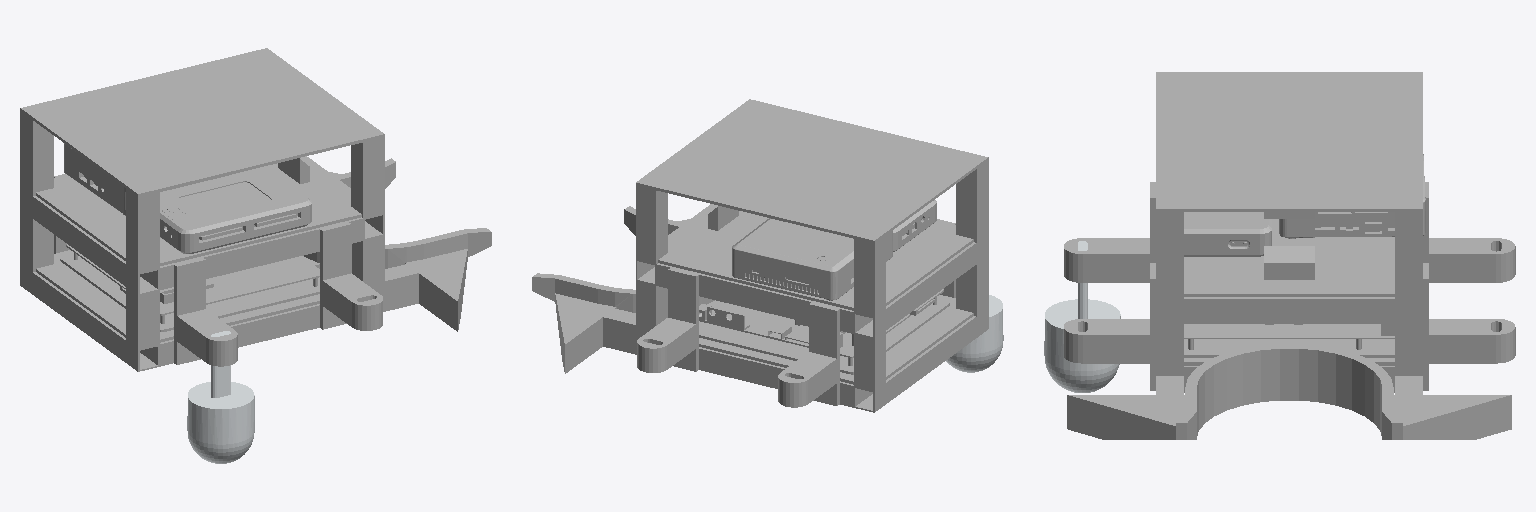
URDF robot description (lide):
<?xml version="1.0" encoding="utf-8"?>
<!-- This URDF was automatically created by SolidWorks to URDF Exporter! Originally created by [author] ([email redacted]) 
     Commit Version: 1.5.1-0-g916b5db  Build Version: 1.5.7152.31018
     For more information, please see http://wiki.ros.org/sw_urdf_exporter -->
<robot
  name="lide">
  <link
    name="base_link">
    <inertial>
      <origin
        xyz="-0.115823845803328 0.0844461093702982 0.0471980144973141"
        rpy="0 0 0" />
      <mass
        value="3.17049103377095" />
      <inertia
        ixx="0.00756848298117278"
        ixy="-5.47577884760056E-07"
        ixz="-1.15986515098171E-05"
        iyy="0.00567333147151148"
        iyz="-3.00885497222187E-07"
        izz="0.0125111608554953" />
    </inertial>
    <visual>
      <origin
        xyz="0 0 0"
        rpy="0 0 0" />
      <geometry>
        <mesh
          filename="package://lide/meshes/base_link.STL" />
      </geometry>
      <material
        name="">
        <color
          rgba="0.752941176470588 0.752941176470588 0.752941176470588 1" />
      </material>
    </visual>
    <collision>
      <origin
        xyz="0 0 0"
        rpy="0 0 0" />
      <geometry>
        <mesh
          filename="package://lide/meshes/base_link.STL" />
      </geometry>
    </collision>
  </link>
  <link
    name="LFS">
    <inertial>
      <origin
        xyz="0.0455604268709419 0.00830943309140329 0.00297622851896683"
        rpy="0 0 0" />
      <mass
        value="0.0727928435161987" />
      <inertia
        ixx="2.20927876796313E-05"
        ixy="-1.64845302056344E-08"
        ixz="-1.56454773175211E-07"
        iyy="1.62632133784213E-05"
        iyz="2.96411876511627E-09"
        izz="1.80843397531752E-05" />
    </inertial>
    <visual>
      <origin
        xyz="0 0 0"
        rpy="0 0 0" />
      <geometry>
        <mesh
          filename="package://lide/meshes/LFS.STL" />
      </geometry>
      <material
        name="">
        <color
          rgba="0.752941176470588 0.752941176470588 0.752941176470588 1" />
      </material>
    </visual>
    <collision>
      <origin
        xyz="0 0 0"
        rpy="0 0 0" />
      <geometry>
        <mesh
          filename="package://lide/meshes/LFS.STL" />
      </geometry>
    </collision>
  </link>
  <joint
    name="LFS"
    type="fixed">
    <origin
      xyz="-0.0540436140506678 0.200153640036847 -0.0365027479853971"
      rpy="1.5707963267949 0 1.5707963267949" />
    <parent
      link="base_link" />
    <child
      link="LFS" />
    <axis
      xyz="0 0 0" />
  </joint>
  <link
    name="LFW">
    <inertial>
      <origin
        xyz="0.015 0 2.60208521396521E-18"
        rpy="0 0 0" />
      <mass
        value="0.767080911081153" />
      <inertia
        ixx="0.00116426102407189"
        ixy="-1.25105048588129E-22"
        ixz="-1.83311841364852E-20"
        iyy="0.000639661580367031"
        iyz="-3.3881317890172E-21"
        izz="0.000639661580367032" />
    </inertial>
    <visual>
      <origin
        xyz="0 0 0"
        rpy="0 0 0" />
      <geometry>
        <mesh
          filename="package://lide/meshes/LFW.STL" />
      </geometry>
      <material
        name="">
        <color
          rgba="0.898039215686275 0.917647058823529 0.929411764705882 1" />
      </material>
    </visual>
    <collision>
      <origin
        xyz="0 0 0"
        rpy="0 1.5708 0" />
      <geometry>
        <cylinder length="0.03" radius="0.055"/>
      </geometry>
    </collision>
  </link>
  <joint
    name="LFW"
    type="continuous">
    <origin
      xyz="0.063346 -0.006798 0.015044"
      rpy="-1.6264 0 0" />
    <parent
      link="LFS" />
    <child
      link="LFW" />
    <axis
      xyz="1 0 0" />
    <limit
      effort="3.1"
      velocity="7" />
  </joint>
  <link
    name="RFS">
    <inertial>
      <origin
        xyz="-0.0191828308457407 -0.00900932874707057 0.0520056318885905"
        rpy="0 0 0" />
      <mass
        value="0.0727928435161986" />
      <inertia
        ixx="2.20927876796313E-05"
        ixy="-1.6484530205632E-08"
        ixz="1.56454773175213E-07"
        iyy="1.62632133784213E-05"
        iyz="-2.96411876510631E-09"
        izz="1.80843397531752E-05" />
    </inertial>
    <visual>
      <origin
        xyz="0 0 0"
        rpy="0 0 0" />
      <geometry>
        <mesh
          filename="package://lide/meshes/RFS.STL" />
      </geometry>
      <material
        name="">
        <color
          rgba="0.752941176470588 0.752941176470588 0.752941176470588 1" />
      </material>
    </visual>
    <collision>
      <origin
        xyz="0 0 0"
        rpy="0 0 0" />
      <geometry>
        <mesh
          filename="package://lide/meshes/RFS.STL" />
      </geometry>
    </collision>
  </link>
  <joint
    name="RFS"
    type="fixed">
    <origin
      xyz="-0.10307 -0.060531 -0.019216"
      rpy="1.5708 0 1.5708" />
    <parent
      link="base_link" />
    <child
      link="RFS" />
    <axis
      xyz="0 0 0" />
  </joint>
  <link
    name="RFW">
    <inertial>
      <origin
        xyz="-0.015 1.0842021724855E-19 0"
        rpy="0 0 0" />
      <mass
        value="0.767080911081152" />
      <inertia
        ixx="0.00116426102407189"
        ixy="-5.99355756097365E-37"
        ixz="4.60638074444741E-39"
        iyy="0.000639661580367031"
        iyz="-2.21718708608611E-36"
        izz="0.000639661580367031" />
    </inertial>
    <visual>
      <origin
        xyz="0 0 0"
        rpy="0 0 0" />
      <geometry>
        <mesh
          filename="package://lide/meshes/RFW.STL" />
      </geometry>
      <material
        name="">
        <color
          rgba="0.898039215686275 0.917647058823529 0.929411764705882 1" />
      </material>
    </visual>
     <collision>
      <origin
        xyz="0 0 0"
        rpy="0 1.5708 0" />
      <geometry>
        <cylinder length="0.03" radius="0.055"/>
      </geometry>
    </collision>
  </link>
  <joint
    name="RFW"
    type="continuous">
    <origin
      xyz="-0.036969 -0.024084 0.064073"
      rpy="0 0 0" />
    <parent
      link="RFS" />
    <child
      link="RFW" />
    <axis
      xyz="1 0 0" />
    <limit
      effort="3.1"
      velocity="7" />
  </joint>
  <link
    name="LBS">
    <inertial>
      <origin
        xyz="0 -0.045029 0"
        rpy="0 0 0" />
      <mass
        value="0.44204" />
      <inertia
        ixx="0.00028466"
        ixy="-1.2482E-22"
        ixz="-6.2053E-22"
        iyy="0.00017531"
        iyz="1.5658E-21"
        izz="0.0002841" />
    </inertial>
    <visual>
      <origin
        xyz="0 0 0"
        rpy="0 0 0" />
      <geometry>
        <mesh
          filename="package://lide/meshes/LBS.STL" />
      </geometry>
      <material
        name="">
        <color
          rgba="0.89804 0.91765 0.92941 1" />
      </material>
    </visual>
    <collision>
      <origin
        xyz="0 0 0"
        rpy="0 0 0" />
      <geometry>
        <mesh
          filename="package://lide/meshes/LBS.STL" />
      </geometry>
    </collision>
  </link>
  <joint
    name="LBS"
    type="fixed">
    <origin
      xyz="-0.202 0.24575 -0.013226"
      rpy="1.5708 0 1.5708" />
    <parent
      link="base_link" />
    <child
      link="LBS" />
    <axis
      xyz="0 0 0" />
  </joint>
  <link
    name="RBS">
    <inertial>
      <origin
        xyz="6.93889390390723E-18 -0.0450291457089084 0"
        rpy="0 0 0" />
      <mass
        value="0.442042052280736" />
      <inertia
        ixx="0.00028466325059699"
        ixy="-1.24713258277564E-21"
        ixz="-4.8787092274987E-23"
        iyy="0.000175308591947339"
        iyz="1.5657649315804E-21"
        izz="0.000284100534303298" />
    </inertial>
    <visual>
      <origin
        xyz="0 0 0"
        rpy="0 0 0" />
      <geometry>
        <mesh
          filename="package://lide/meshes/RBS.STL" />
      </geometry>
      <material
        name="">
        <color
          rgba="0.898039215686275 0.917647058823529 0.929411764705882 1" />
      </material>
    </visual>
    <collision>
      <origin
        xyz="0 0 0"
        rpy="0 0 0" />
      <geometry>
        <mesh
          filename="package://lide/meshes/RBS.STL" />
      </geometry>
    </collision>
  </link>
  <joint
    name="RBS"
    type="fixed">
    <origin
      xyz="-0.202 -0.07975 -0.013226"
      rpy="1.5708 0 1.5708" />
    <parent
      link="base_link" />
    <child
      link="RBS" />
    <axis
      xyz="0 0 0" />
  </joint>
  <link
    name="fcam">
    <inertial>
      <origin
        xyz="-0.011554 -2.6443E-06 0.0012903"
        rpy="0 0 0" />
      <mass
        value="0.043612" />
      <inertia
        ixx="2.3571E-05"
        ixy="-1.0184E-09"
        ixz="2.1759E-08"
        iyy="4.2948E-06"
        iyz="-8.8502E-10"
        izz="2.2106E-05" />
    </inertial>
    <visual>
      <origin
        xyz="0 0 0"
        rpy="0 0 0" />
      <geometry>
        <mesh
          filename="package://lide/meshes/fcam.STL" />
      </geometry>
      <material
        name="">
        <color
          rgba="0.79216 0.81961 0.93333 1" />
      </material>
    </visual>
    <collision>
      <origin
        xyz="0 0 0"
        rpy="0 0 0" />
      <geometry>
        <mesh
          filename="package://lide/meshes/fcam.STL" />
      </geometry>
    </collision>
  </link>
  <joint
    name="fcam"
    type="fixed">
    <origin
      xyz="-0.0038823 0.083 0.12982"
      rpy="0 0.2618 0" />
    <parent
      link="base_link" />
    <child
      link="fcam" />
    <axis
      xyz="0 0 0" />
  </joint>
  <link
    name="bcam">
    <inertial>
      <origin
        xyz="-0.020103 -2.6435E-06 -0.0072587"
        rpy="0 0 0" />
      <mass
        value="0.043612" />
      <inertia
        ixx="2.3571E-05"
        ixy="-1.0183E-09"
        ixz="2.1758E-08"
        iyy="4.2948E-06"
        iyz="-8.8548E-10"
        izz="2.2106E-05" />
    </inertial>
    <visual>
      <origin
        xyz="0 0 0"
        rpy="0 0 0" />
      <geometry>
        <mesh
          filename="package://lide/meshes/bcam.STL" />
      </geometry>
      <material
        name="">
        <color
          rgba="0.79216 0.81961 0.93333 1" />
      </material>
    </visual>
    <collision>
      <origin
        xyz="0 0 0"
        rpy="0 0 0" />
      <geometry>
        <mesh
          filename="package://lide/meshes/bcam.STL" />
      </geometry>
    </collision>
  </link>
  <joint
    name="bcam"
    type="fixed">
    <origin
      xyz="0 0.083 0.091232"
      rpy="0 0.7854 0" />
    <parent
      link="base_link" />
    <child
      link="bcam" />
    <axis
      xyz="0 0 0" />
  </joint>
  <link
    name="Lidar">
    <inertial>
      <origin
        xyz="0.013523 0.00046196 -0.028765"
        rpy="0 0 0" />
      <mass
        value="0.073085" />
      <inertia
        ixx="1.9581E-05"
        ixy="-1.0393E-07"
        ixz="-4.2839E-07"
        iyy="2.4125E-05"
        iyz="9.4271E-09"
        izz="4.1418E-05" />
    </inertial>
    <visual>
      <origin
        xyz="0 0 0"
        rpy="0 0 0" />
      <geometry>
        <mesh
          filename="package://lide/meshes/Lidar.STL" />
      </geometry>
      <material
        name="">
        <color
          rgba="0.79216 0.81961 0.93333 1" />
      </material>
    </visual>
    <collision>
      <origin
        xyz="0 0 0"
        rpy="0 0 0" />
      <geometry>
        <mesh
          filename="package://lide/meshes/Lidar.STL" />
      </geometry>
    </collision>
  </link>
  <joint
    name="Lidar"
    type="fixed">
    <origin
      xyz="-0.13458 0.082006 0.2065"
      rpy="0 0 0" />
    <parent
      link="base_link" />
    <child
      link="Lidar" />
    <axis
      xyz="0 0 0" />
  </joint>
  <link
    name="imu_link">
    <inertial>
      <origin
        xyz="0.00291084634946051 6.23984008059492E-05 -0.0010337757523434"
        rpy="0 0 0" />
      <mass
        value="0.00189180567975737" />
      <inertia
        ixx="7.79431263454133E-08"
        ixy="1.3921419055649E-10"
        ixz="1.54511633252894E-11"
        iyy="4.85473464623124E-08"
        iyz="-6.30099051334842E-11"
        izz="1.25233585370532E-07" />
    </inertial>
    <visual>
      <origin
        xyz="0 0 0"
        rpy="0 0 0" />
      <geometry>
        <mesh
          filename="package://lide/meshes/imu_link.STL" />
      </geometry>
      <material
        name="">
        <color
          rgba="0.898039215686275 0.917647058823529 0.929411764705882 1" />
      </material>
    </visual>
    <collision>
      <origin
        xyz="0 0 0"
        rpy="0 0 0" />
      <geometry>
        <mesh
          filename="package://lide/meshes/imu_link.STL" />
      </geometry>
    </collision>
  </link>
  <joint
    name="imu_link"
    type="fixed">
    <origin
      xyz="-0.040625 0.083 0.155"
      rpy="0 0 0" />
    <parent
      link="base_link" />
    <child
      link="imu_link" />
    <axis
      xyz="0 0 0" />
  </joint>
</robot>

--- Render facts (derived) ---
The picture shows the robot from 3 angles, left to right: view 1: azimuth 30°, elevation 25°; view 2: azimuth 150°, elevation 25°; view 3: azimuth 270°, elevation 25°; orthographic projection.
Robot: lide — 11 links, 10 joints (2 continuous, 8 fixed); root link base_link; default pose: all joints at 0.
Visible links, largest first — view 1: base_link, RBS; view 2: base_link, RBS; view 3: base_link, RBS.
Boxes of the visible links, bbox=[...] form: base_link: bbox=[20, 48, 491, 371]; RBS: bbox=[187, 331, 254, 463]; base_link: bbox=[532, 99, 988, 412]; RBS: bbox=[946, 295, 1003, 372]; base_link: bbox=[1064, 72, 1515, 439]; RBS: bbox=[1044, 241, 1120, 392].
Size in the robot's own frame: 0.373 by 0.3705 by 0.2513 metres.
2 mesh visuals loaded from 11 distinct referenced files (2 binary STL); not drawn: 9 (reference not matched to a file when rendering).